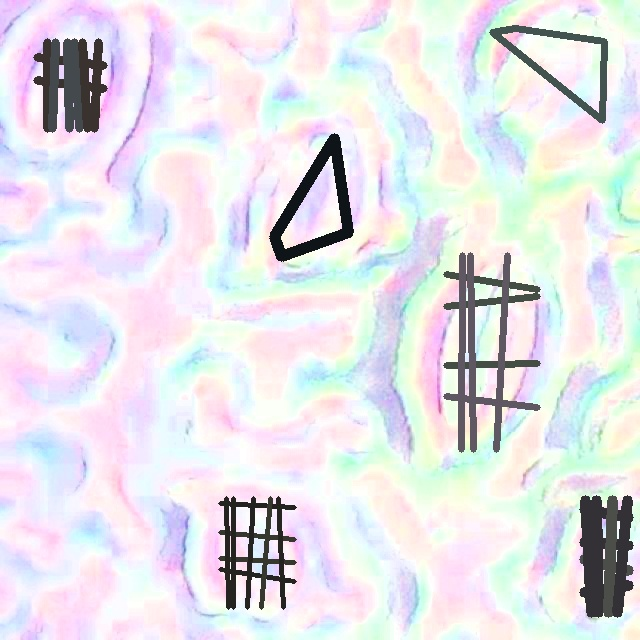close: (443, 252, 540, 452), (218, 496, 296, 609), (33, 38, 107, 132), (579, 496, 633, 617)
open: (489, 25, 607, 123), (269, 133, 353, 261)
